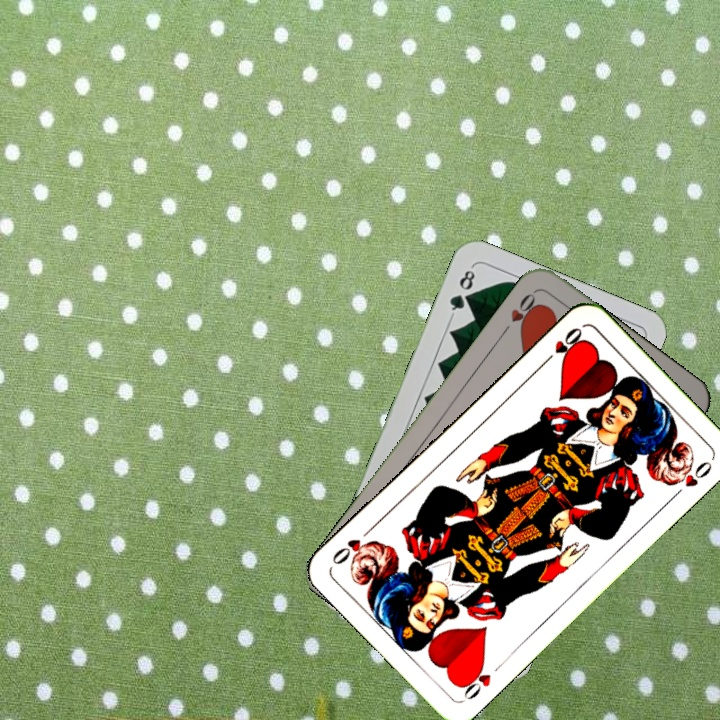G8: (445, 263, 478, 319)
HO: (497, 287, 543, 338), (538, 323, 585, 368), (455, 659, 494, 703)
